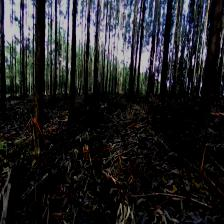trunk: (195, 13, 224, 140), (32, 0, 45, 155), (159, 8, 172, 106), (145, 16, 157, 103), (68, 2, 76, 117), (0, 10, 6, 118), (84, 18, 90, 106), (136, 22, 143, 96), (21, 34, 25, 98)
